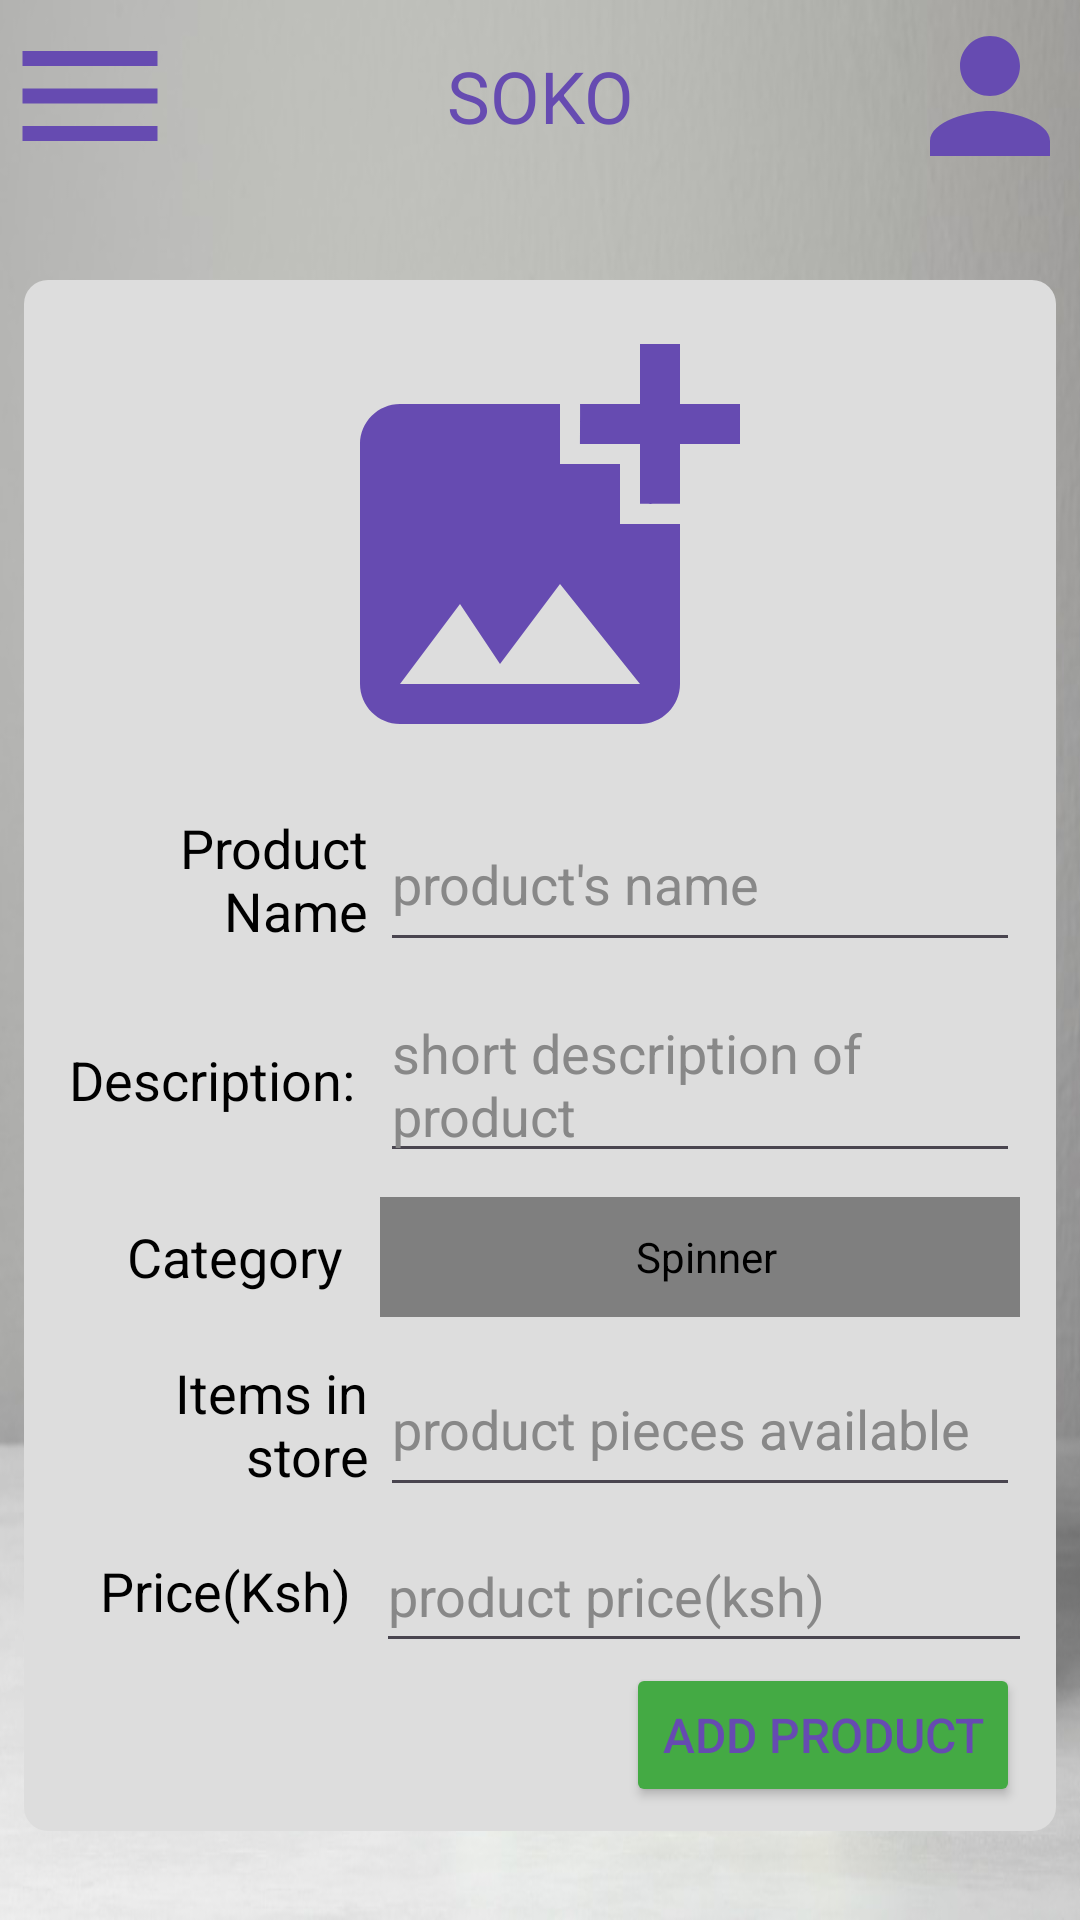

Screen size 1080*1920. Icon name, then its box in pixels as (x1, y1, x2, y2):
menu: (22, 51, 158, 141)
profile: (930, 36, 1050, 156)
